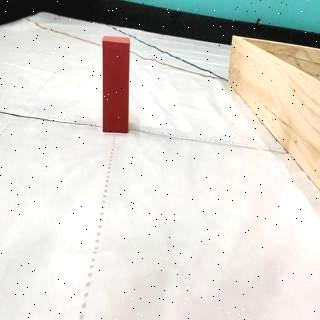redbox: (101, 32, 131, 132)
